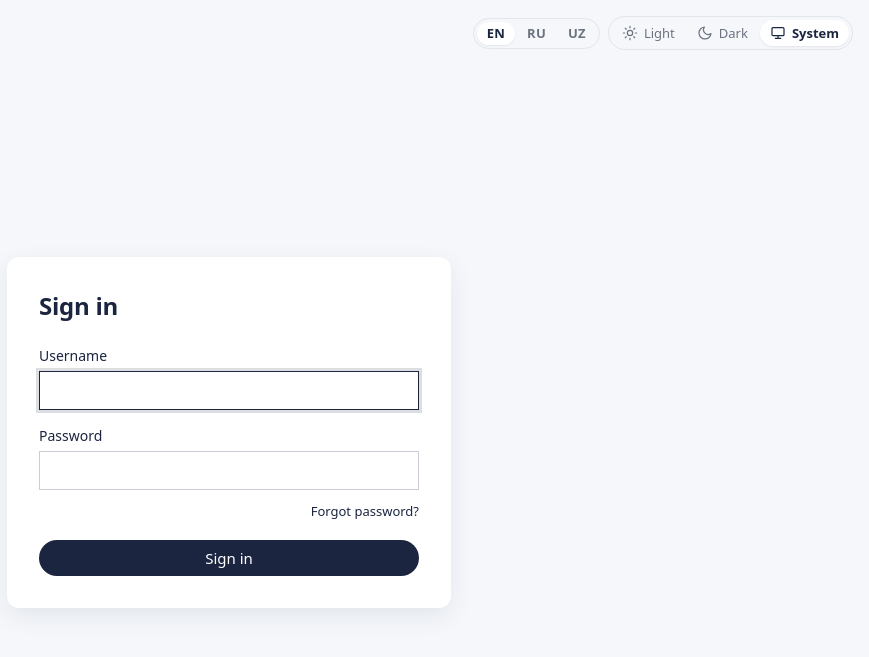
LoginPage — error surfacing › surfaces the 401 envelope message verbatim (e.g. account locked)
Type "operator" into the field labelled "Username". click: (229, 390)
box: [39, 370, 419, 410]
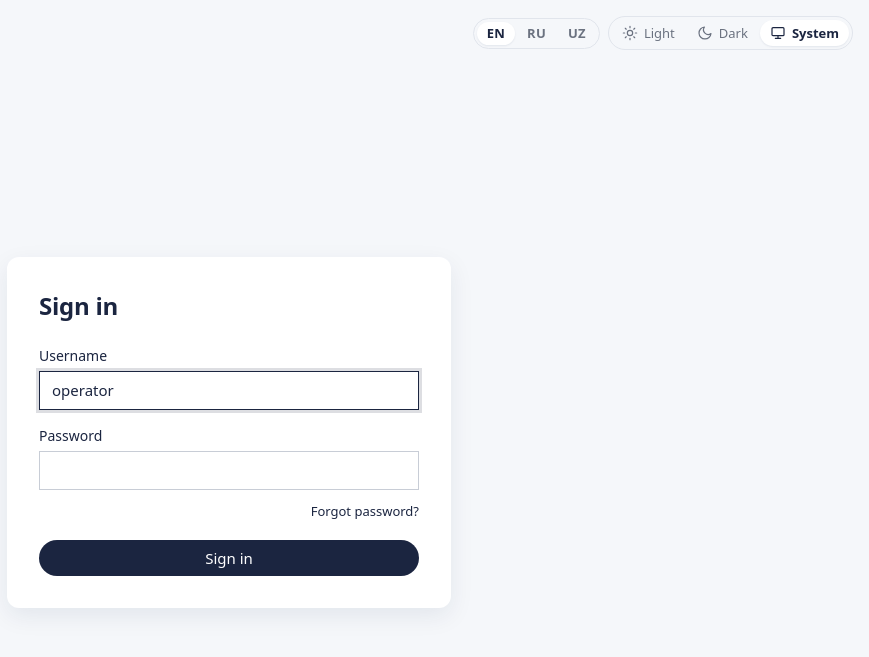
Type "secret" into the password field labelled "Password". click: (229, 470)
box: [39, 450, 419, 490]
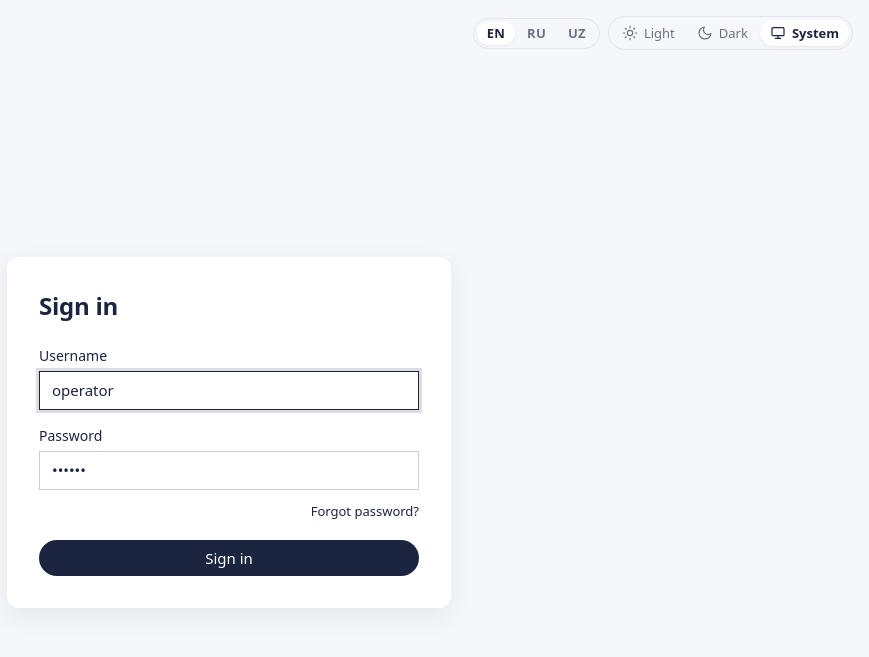
Click the button "Sign in". click: (229, 558)
box: [39, 540, 419, 576]
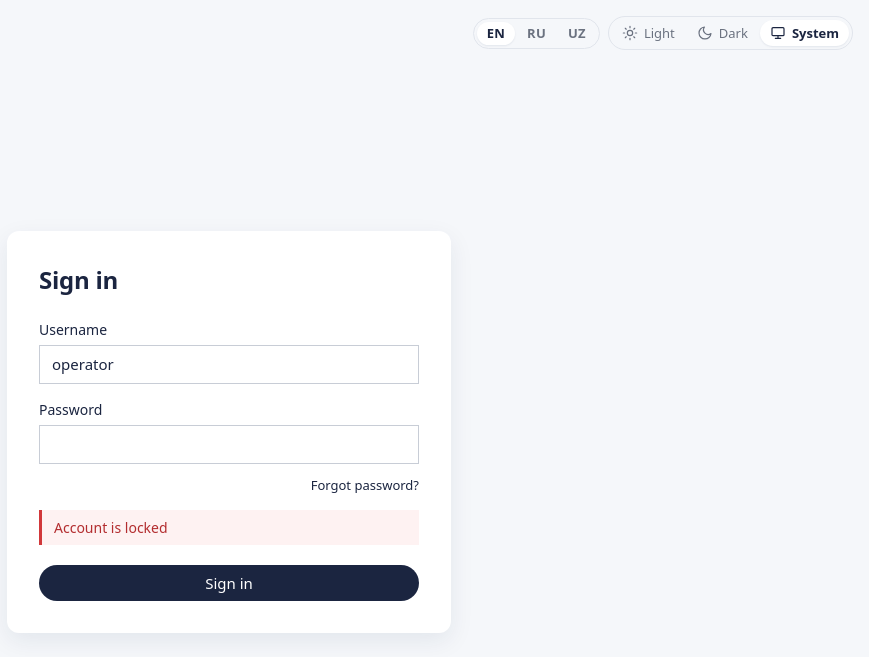
Now the text "Account is locked" is shown, box [39, 510, 419, 545]
